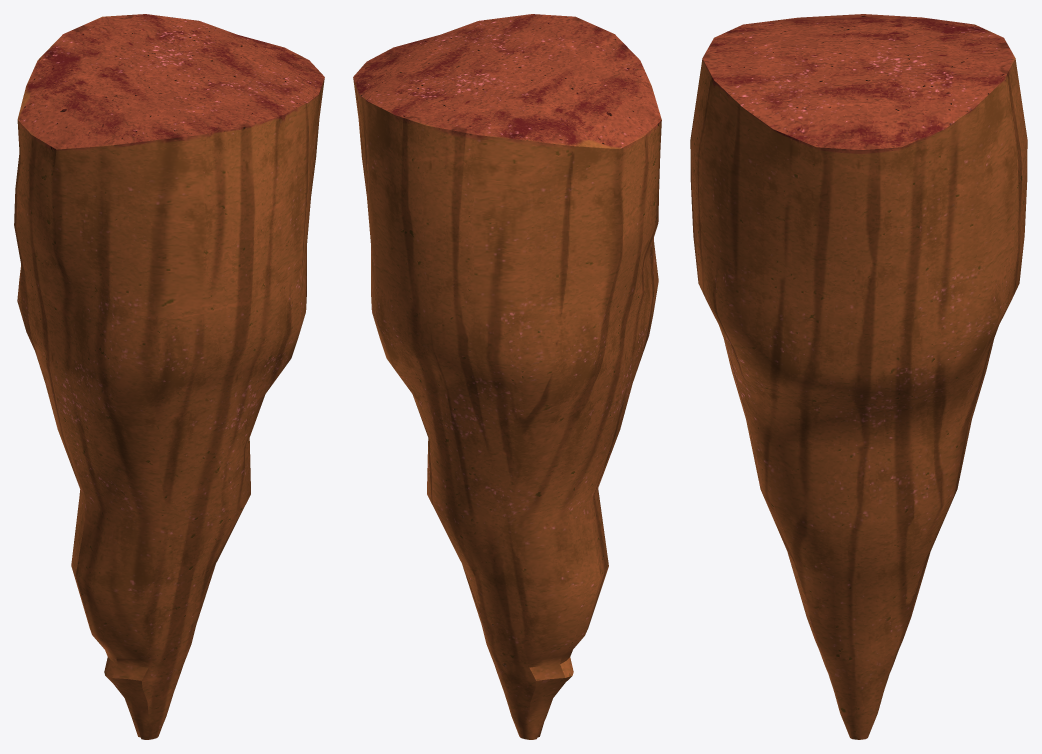
The model's file is Rock_Final_V1.fbx.
3 views of the same model, side by side, from view 1: azimuth 30°, elevation 25°; view 2: azimuth 150°, elevation 25°; view 3: azimuth 270°, elevation 25° (orthographic). The views are drawn at different scales.
Parts seen in each view (by area): view 1: pCube1; view 2: pCube1; view 3: pCube1.
Part boxes in pixels (x1,y1,x2,y2): pCube1: [14, 14, 324, 739]; pCube1: [353, 14, 661, 739]; pCube1: [690, 14, 1027, 739].
Bounding box in the file's own units: 4.62 × 10.4 × 4.59.
Materials: 1 (1 with a texture image).
